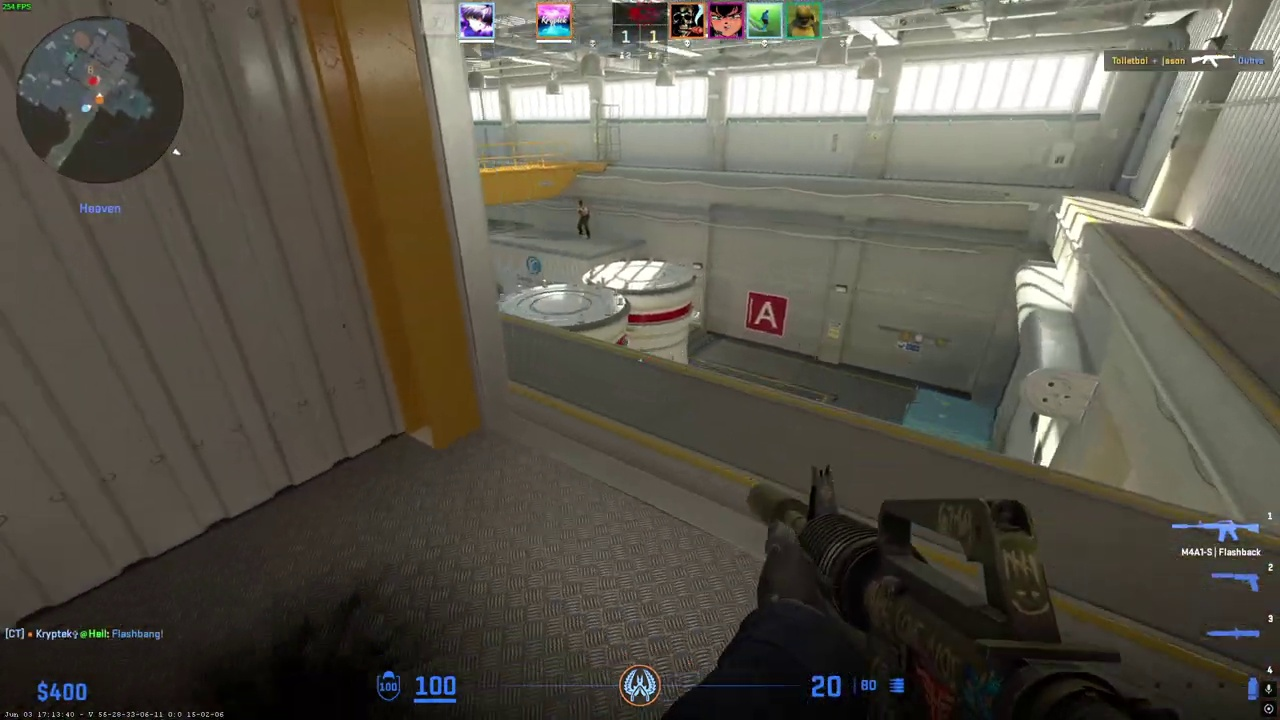Terrorist: (574, 199, 592, 238)
